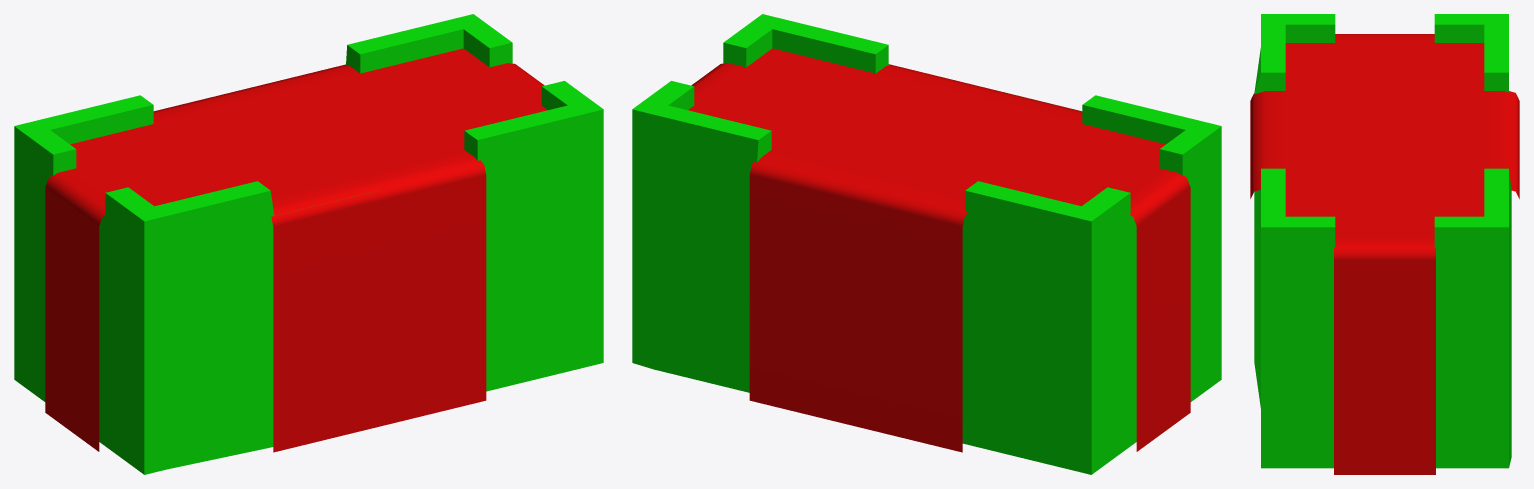
File: frogPlatform_v2_MESH.fbx
3 views of the same model, side by side, from view 1: azimuth 30°, elevation 25°; view 2: azimuth 150°, elevation 25°; view 3: azimuth 270°, elevation 25° (orthographic). The views are drawn at different scales.
Visible parts, largest first — view 1: platform_MESH; view 2: platform_MESH; view 3: platform_MESH.
Boxes of the visible parts, x1,y1,x2,y2 form: platform_MESH: (14, 14, 603, 474); platform_MESH: (632, 14, 1221, 474); platform_MESH: (1250, 14, 1519, 474).
Bounding box in the file's own units: 83.52 × 43.34 × 43.29.
